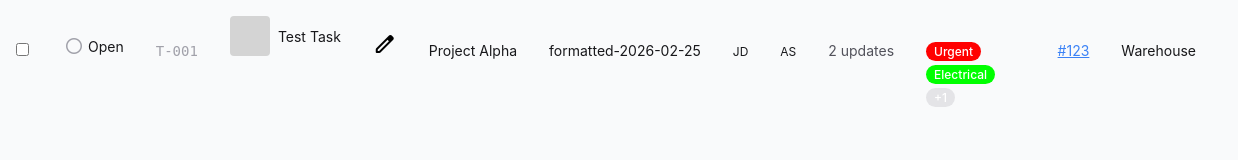
Test: <TaskTableRow /> › starts editing when edit button is clicked
Click the button "Edit" at (385, 46), box [373,32,397,59]
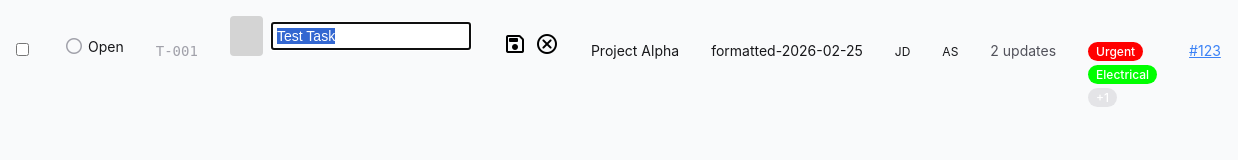
expect the field showing "Test Task" is shown: met, box [271,22,471,50]
